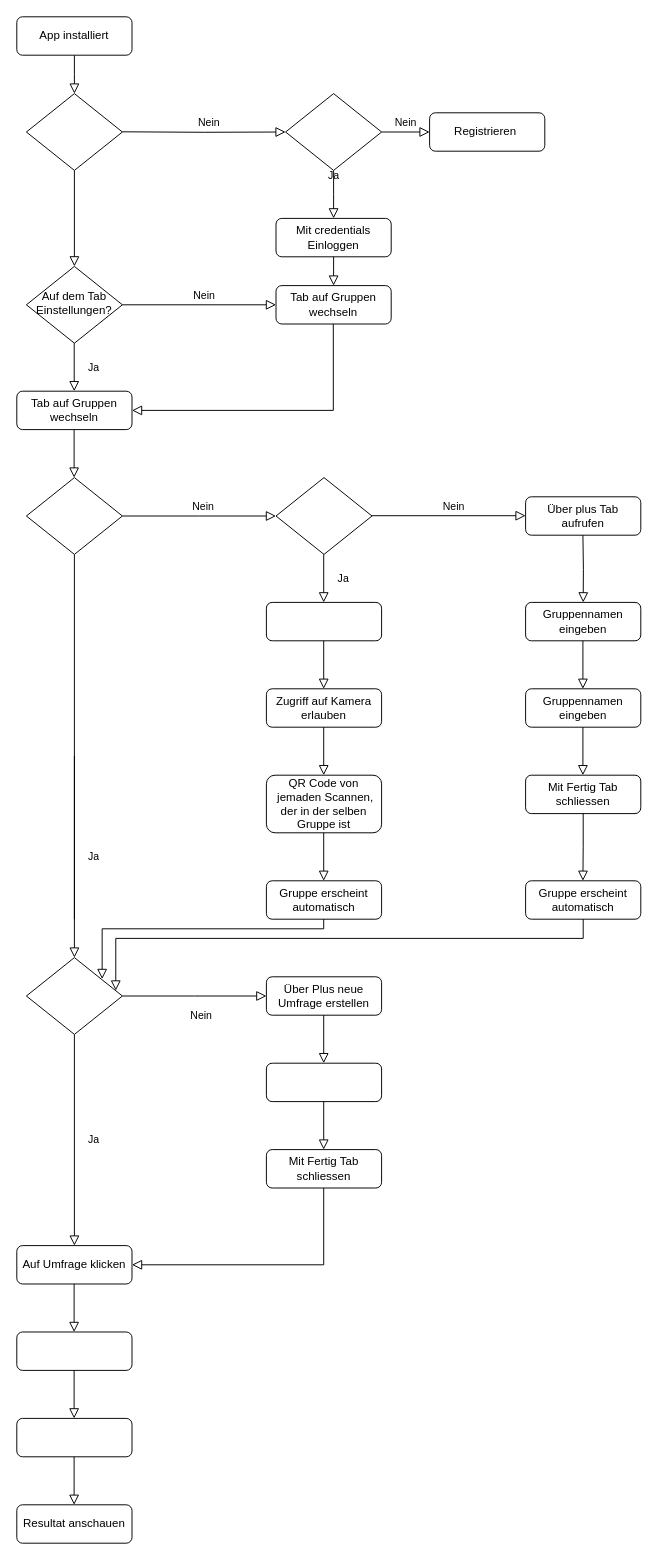
Some shapes in this 658 by 1560 pixel diagram are drawn without their labels. The centre of each missing label's shape, as x and y in pixels:
"Account vorhanden?" goes at pixel 333 131.
"Antwort wählen" goes at pixel 74 1350.
"Bereits eingeloggt?" goes at pixel 73 131.
"Gruppe/n vorhanden?" goes at pixel 73 515.
"Mit Speichern Knopf Antwort speichern" goes at pixel 74 1437.
"Mit Tippen auf dem Bildschirm neue Frage hinzufügen" goes at pixel 323 1082.
"Möglichkeit einer Gruppe beizutreten?" goes at pixel 323 515.
"Neue Abstimmung vorhanden?" goes at pixel 73 995.
"über Gruppen Tab Symbol einer Gruppe beitreten" goes at pixel 323 621.
